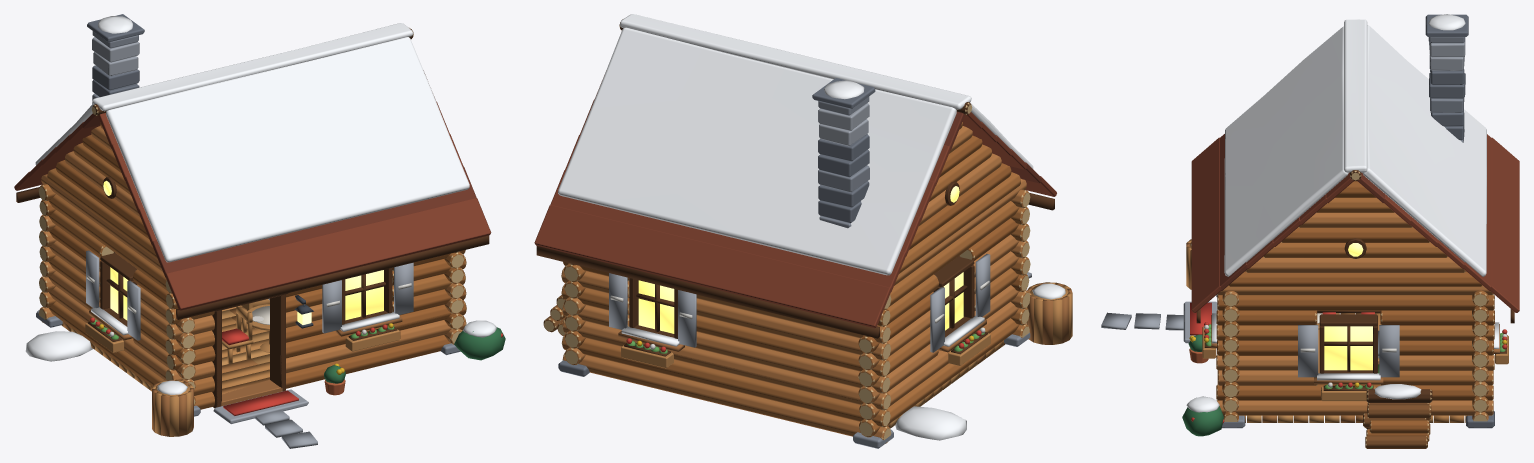
File: house_1.glb
3 renders of one model, left to right at view 1: azimuth 30°, elevation 25°; view 2: azimuth 150°, elevation 25°; view 3: azimuth 270°, elevation 25°, orthographic. The views are drawn at different scales.
Visible parts, largest first — view 1: roof, walls, exterior, floor, interior, walls_low; view 2: roof, walls, exterior, floor; view 3: roof, walls, exterior, floor.
Part boxes in pixels (x1,y1,x2,y2): roof: (14, 14, 491, 319); walls: (36, 174, 466, 416); exterior: (25, 320, 505, 448); floor: (61, 306, 308, 424); interior: (114, 252, 269, 364); walls_low: (39, 282, 465, 407); roof: (534, 14, 1056, 338); walls: (558, 179, 1030, 448); exterior: (543, 272, 1072, 440); floor: (887, 340, 1005, 428); roof: (1191, 14, 1519, 323); walls: (1202, 180, 1508, 428); exterior: (1101, 239, 1432, 448); floor: (1183, 301, 1466, 422).
Bounding box in the file's own units: 6.26 × 4.81 × 6.03.
